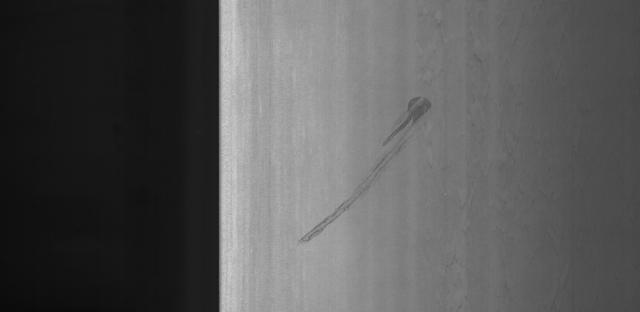silk_spot: (443, 23, 591, 275)
water_spot: (291, 85, 445, 254)
